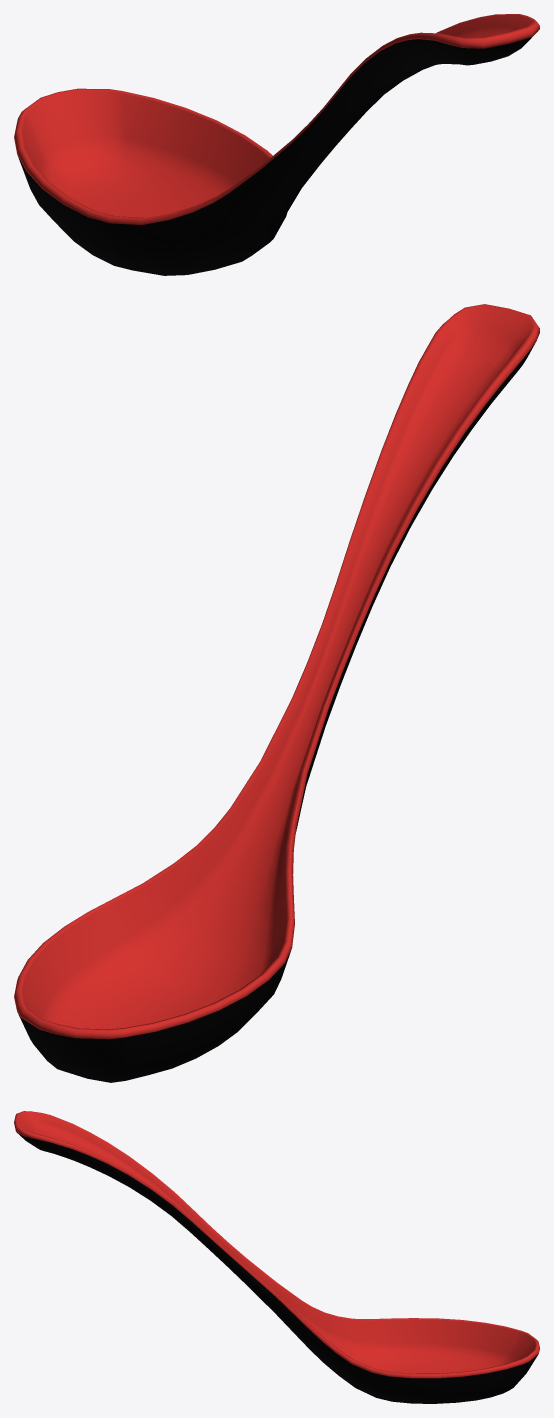
File: spoon.fbx
3 views of the same model, one above another, from view 1: azimuth 30°, elevation 25°; view 2: azimuth 150°, elevation 25°; view 3: azimuth 270°, elevation 25° (orthographic). The views are drawn at different scales.
Visible parts, largest first — view 1: Spoon; view 2: Spoon; view 3: Spoon.
Part boxes in pixels (bbox=[...]): Spoon: bbox=[14, 14, 539, 275]; Spoon: bbox=[14, 304, 539, 1082]; Spoon: bbox=[14, 1111, 539, 1403].
Bounding box in the file's own units: 35.68 × 78.11 × 136.
